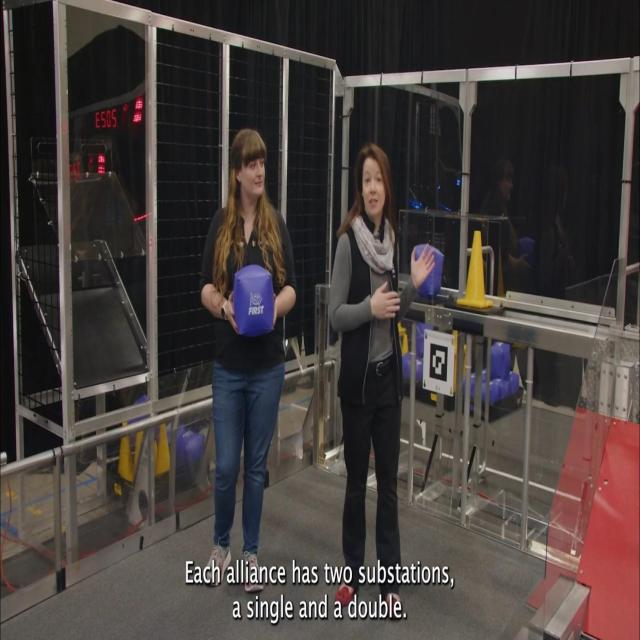frc_cone: (457, 231, 492, 308), (114, 420, 136, 495), (157, 420, 173, 479), (134, 420, 144, 467), (150, 442, 159, 480), (400, 332, 409, 353), (396, 316, 406, 332)
frc_cube: (234, 266, 274, 333), (176, 430, 207, 482), (414, 243, 444, 296), (486, 340, 509, 379), (410, 324, 432, 355), (166, 421, 187, 452), (481, 377, 498, 409), (460, 373, 478, 403), (496, 376, 510, 403), (507, 368, 521, 395), (131, 392, 149, 410), (413, 359, 426, 383), (402, 347, 414, 371), (476, 368, 488, 388)
